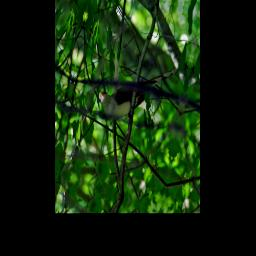Cuckoo: (94, 35, 180, 141)
